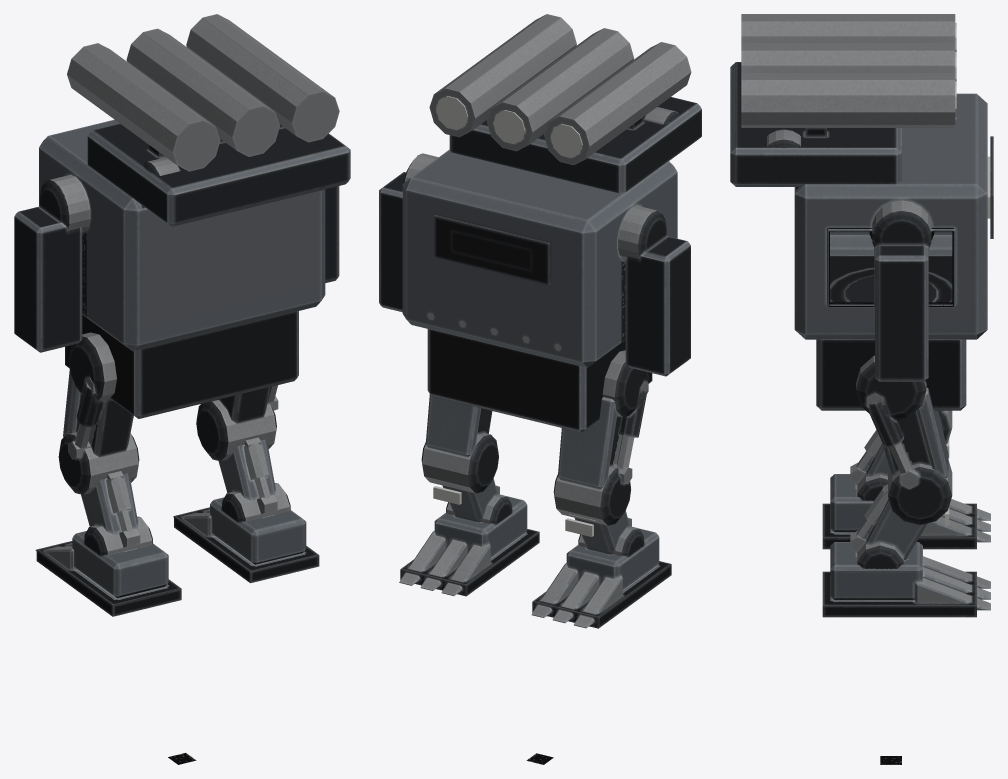
File: chs_needle.fbx
3 renders of one model, left to right at view 1: azimuth 30°, elevation 25°; view 2: azimuth 150°, elevation 25°; view 3: azimuth 270°, elevation 25°, orthographic. The views are drawn at different scales.
Parts seen in each view (by area): view 1: torso_bar, launcher_bar, base_bar, thighL_bar, footR_bar, footL_bar, thighR_bar, shinR_bar, shinL_bar; view 2: torso_bar, launcher_bar, base_bar, thighL_bar, footR_bar, footL_bar, thighR_bar, launcher_glow_running_bar, shinR_bar, shinL_bar; view 3: torso_bar, launcher_bar, base_bar, thighR_bar, footR_bar, footL_bar, shinR_bar, shinL_bar.
Boxes of the visible parts, left/top/right/bottom form: torso_bar: left=14, top=119, right=339, bottom=352; launcher_bar: left=67, top=14, right=350, bottom=226; base_bar: left=65, top=311, right=298, bottom=418; thighL_bar: left=58, top=332, right=139, bottom=494; footR_bar: left=173, top=497, right=319, bottom=583; footL_bar: left=35, top=531, right=181, bottom=616; thighR_bar: left=196, top=385, right=278, bottom=461; shinR_bar: left=218, top=437, right=290, bottom=522; shinL_bar: left=81, top=471, right=152, bottom=555; torso_bar: left=379, top=107, right=690, bottom=376; launcher_bar: left=429, top=14, right=701, bottom=193; base_bar: left=427, top=329, right=652, bottom=432; thighL_bar: left=553, top=350, right=648, bottom=525; footR_bar: left=399, top=494, right=539, bottom=596; footL_bar: left=531, top=527, right=671, bottom=628; thighR_bar: left=421, top=394, right=498, bottom=493; launcher_glow_running_bar: left=436, top=96, right=582, bottom=157; shinR_bar: left=442, top=479, right=512, bottom=524; shinL_bar: left=574, top=511, right=644, bottom=556; torso_bar: left=767, top=93, right=993, bottom=381; launcher_bar: left=730, top=14, right=955, bottom=186; base_bar: left=816, top=256, right=966, bottom=410; thighR_bar: left=856, top=355, right=952, bottom=524; footR_bar: left=822, top=542, right=990, bottom=617; footL_bar: left=822, top=474, right=990, bottom=549; shinR_bar: left=850, top=484, right=927, bottom=568; shinL_bar: left=850, top=430, right=889, bottom=500.
Size of the model in its own units: 330 by 735 by 246.
2 materials, 2 textured.
